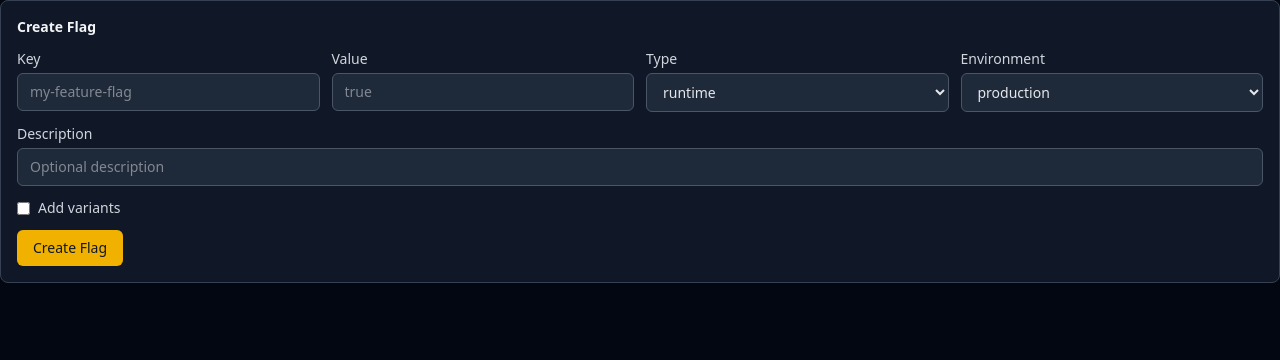
CreateFlagForm › shows variant editor when Add variants checkbox is checked
The image size is (1280, 360).
Step 1. Click the checkbox labelled "Add variants" → click(24, 208), box [17,202,30,214]
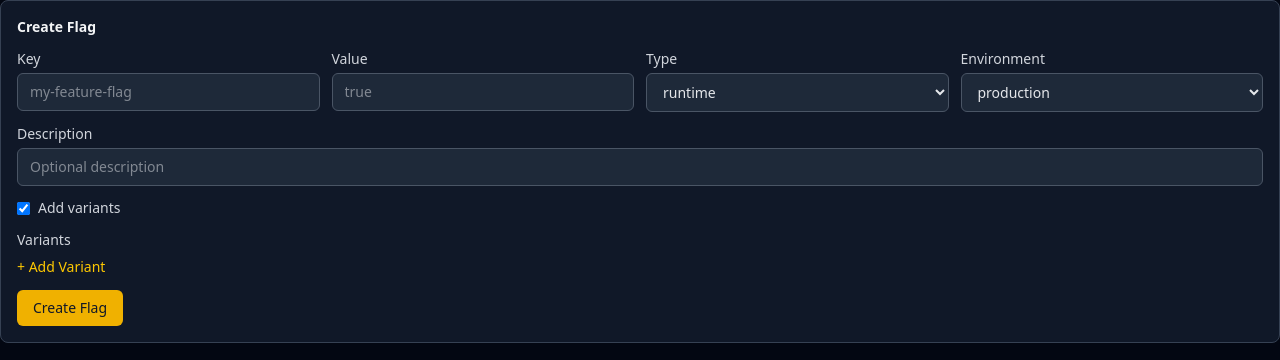
Check: the button "+ Add Variant" is shown, box [17,257,105,277]
